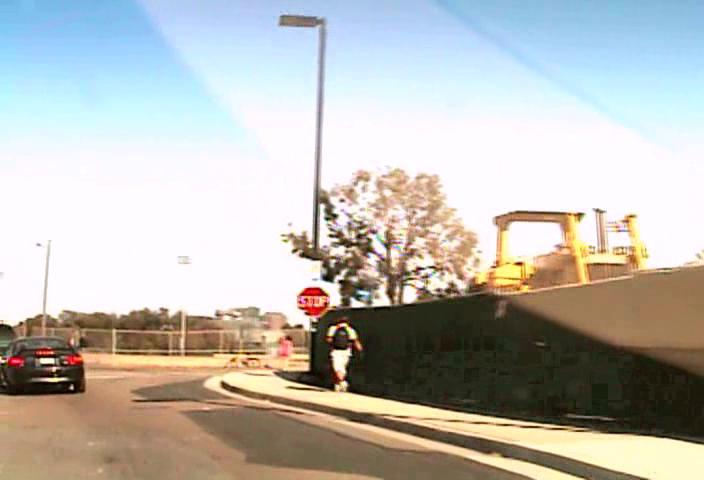stop: (295, 286, 330, 317)
